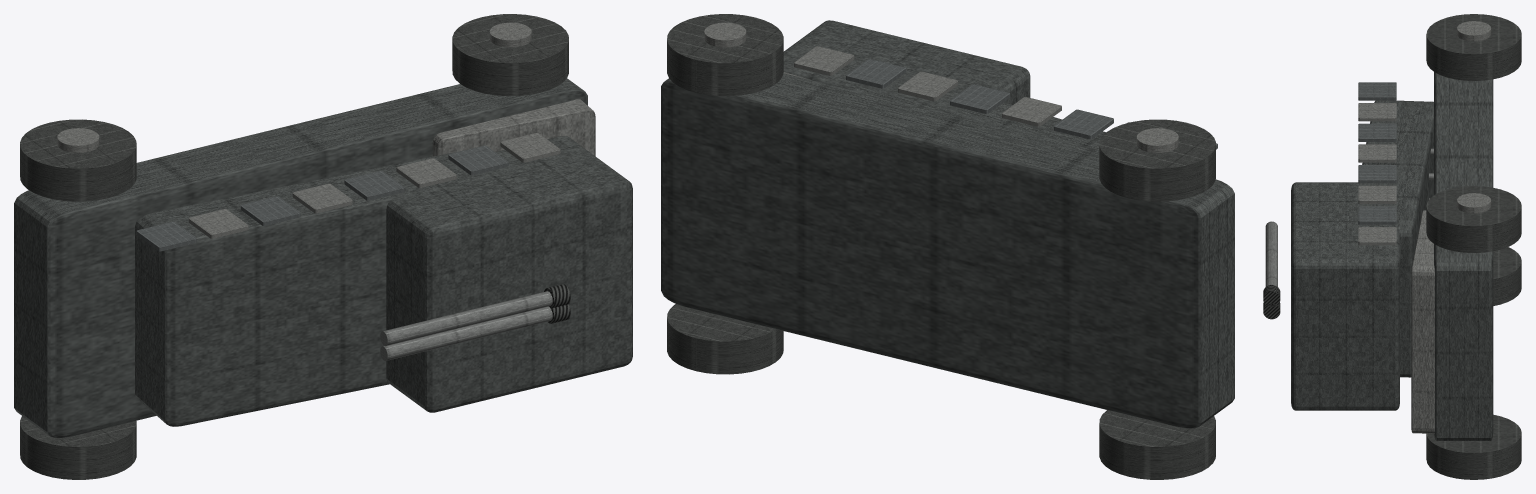
The model's file is c-u15-mobile-fire-group-lod0.glb.
3 views of the same model, side by side, from view 1: azimuth 30°, elevation 25°; view 2: azimuth 150°, elevation 25°; view 3: azimuth 270°, elevation 25° (orthographic). The views are drawn at different scales.
Visible parts, largest first — view 1: chassis_lower, upper_hull, pickup_cabin, chassis_wheel_1_0, chassis_wheel_1_1, chassis_wheel_-1_0, chassis_nose, pickup_gun_barrel_1, pickup_gun_barrel_0, service_hatch_4, service_hatch_5, service_hatch_0 (+7 smaller); view 2: chassis_lower, pickup_cabin, chassis_wheel_1_0, chassis_wheel_1_1, chassis_wheel_-1_0, chassis_wheel_-1_1, upper_hull, service_hatch_5, service_hatch_2, service_hatch_7, service_hatch_6, service_hatch_4 (+3 smaller); view 3: pickup_cabin, chassis_lower, upper_hull, chassis_wheel_1_1, chassis_wheel_1_0, chassis_nose, chassis_wheel_-1_1, chassis_wheel_-1_0, pickup_gun_barrel_1, service_hatch_0, service_hatch_3, service_hatch_6 (+8 smaller).
Part boxes in pixels (x1,y1,x2,y2): chassis_lower: (14, 78, 587, 437); upper_hull: (135, 150, 462, 426); pickup_cabin: (386, 136, 632, 412); chassis_wheel_1_0: (20, 119, 136, 201); chassis_wheel_1_1: (452, 14, 568, 96); chassis_wheel_-1_0: (20, 416, 136, 479); chassis_nose: (432, 99, 595, 156); pickup_gun_barrel_1: (380, 291, 552, 345); pickup_gun_barrel_0: (380, 306, 552, 360); service_hatch_4: (344, 171, 404, 200); service_hatch_5: (396, 158, 456, 187); service_hatch_0: (136, 221, 196, 251); chassis_lower: (661, 73, 1234, 428); pickup_cabin: (783, 20, 1030, 111); chassis_wheel_1_0: (1099, 119, 1215, 201); chassis_wheel_1_1: (667, 14, 783, 96); chassis_wheel_-1_0: (1099, 410, 1215, 479); chassis_wheel_-1_1: (667, 304, 783, 374); upper_hull: (846, 74, 1105, 149); service_hatch_5: (898, 71, 957, 101); service_hatch_2: (1054, 109, 1113, 139); service_hatch_7: (794, 46, 854, 75); service_hatch_6: (846, 59, 905, 88); service_hatch_4: (950, 84, 1009, 113); pickup_cabin: (1291, 182, 1399, 410); chassis_lower: (1434, 72, 1493, 440); upper_hull: (1353, 100, 1433, 377); chassis_wheel_1_1: (1426, 186, 1521, 252); chassis_wheel_1_0: (1426, 14, 1521, 80); chassis_nose: (1411, 210, 1434, 433); chassis_wheel_-1_1: (1426, 414, 1521, 479); chassis_wheel_-1_0: (1493, 247, 1521, 305); pickup_gun_barrel_1: (1265, 221, 1277, 286); service_hatch_0: (1358, 82, 1396, 100); service_hatch_3: (1358, 144, 1396, 162); service_hatch_6: (1358, 206, 1396, 224).
Size of what is drawn, in the model's own units: 4.52 by 2.6 by 2.3.
Materials: 7 (7 with a texture image).
